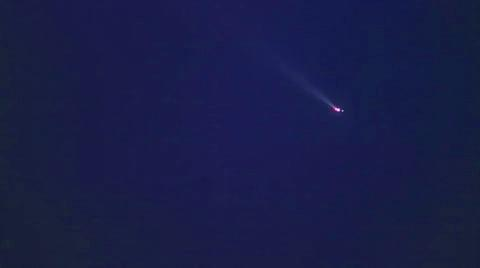Plane: (271, 68, 363, 123)
